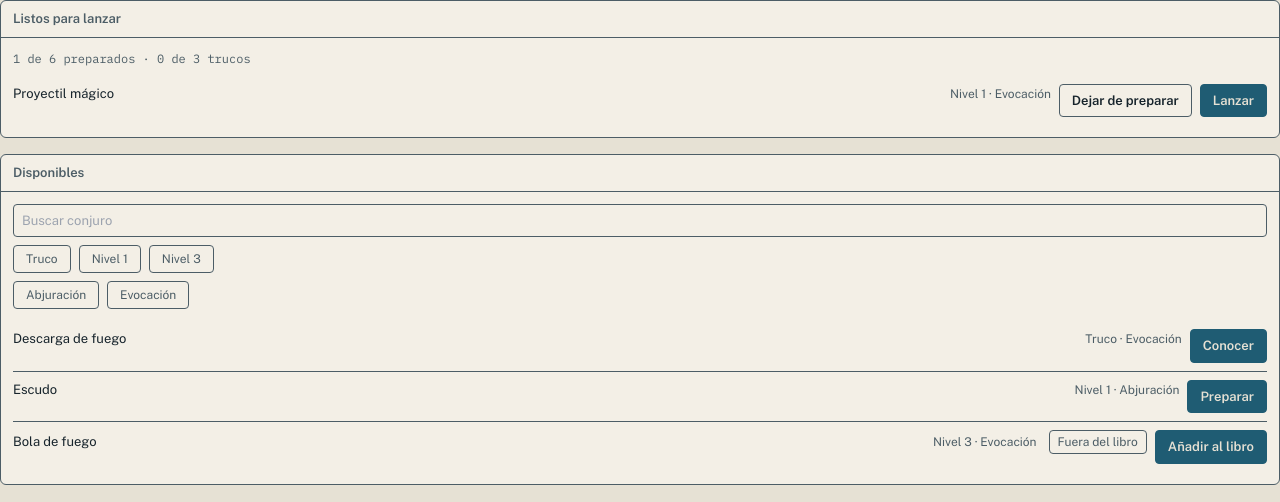
LibroDeConjuros › el buscador filtra por nombre sin acentos ni mayúsculas
Expected: the text "Bola de fuego" is shown, [13,434,97,449]
Type "bola" into the search field labelled "Buscar conjuro". click: [640, 220]
box: [13,204,1267,237]
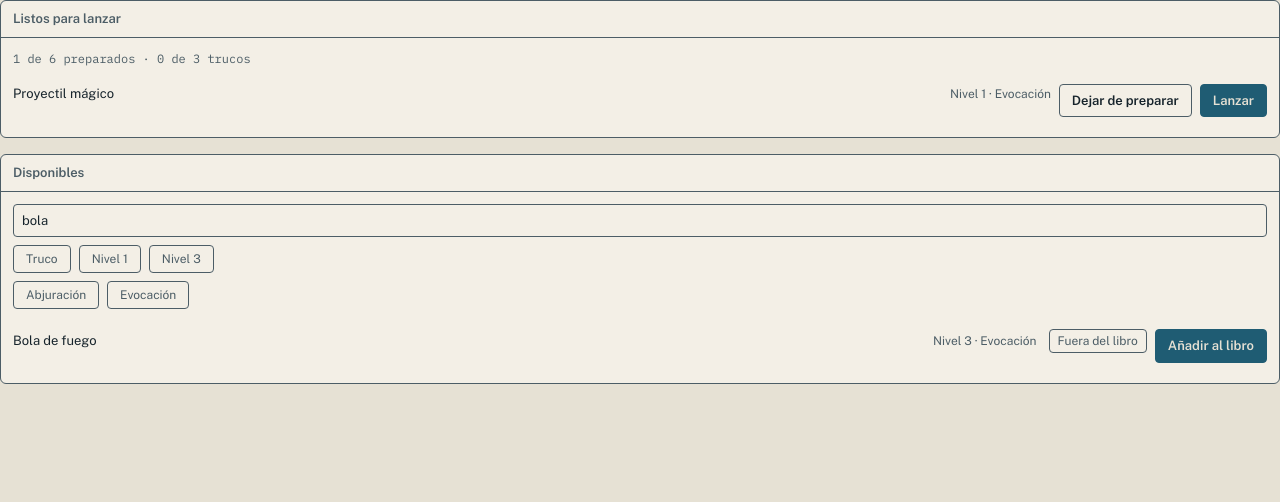
Expected: the text "Bola de fuego" is shown, [13,333,97,348]
Now the heading "Escudo" is gone
